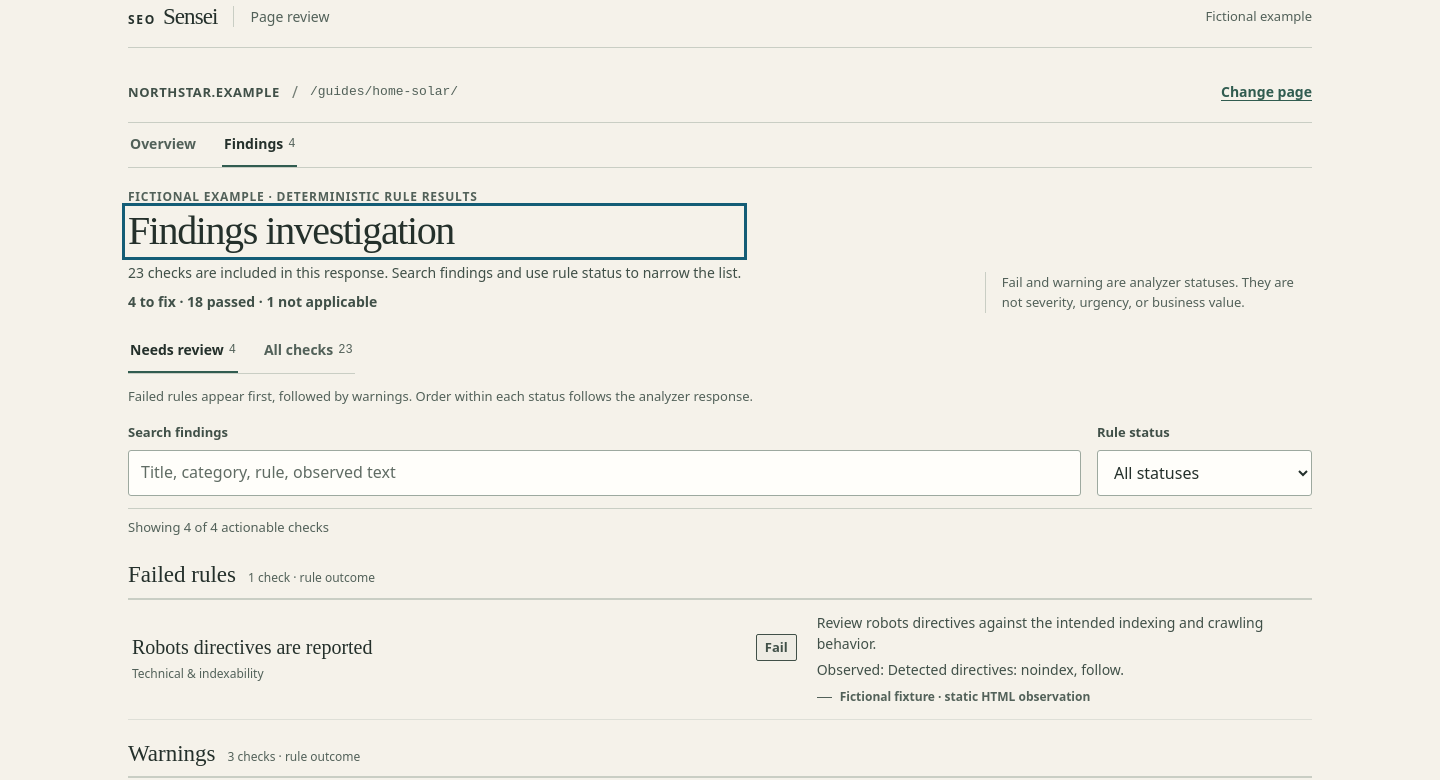
Test: Evidence Ledger authenticated application › orders review results and keeps all 23 fixture checks in their response order
The width and height of the screenshot is (1440, 780).
Expected: the heading "Findings investigation" is shown, [128,208,454,253]
Expected: the message reads "Showing 4 of 4 actionable checks", [128,508,1312,545]
Click the link "All checks 23" at (308, 349), box [264,340,353,359]
(page scrolled)
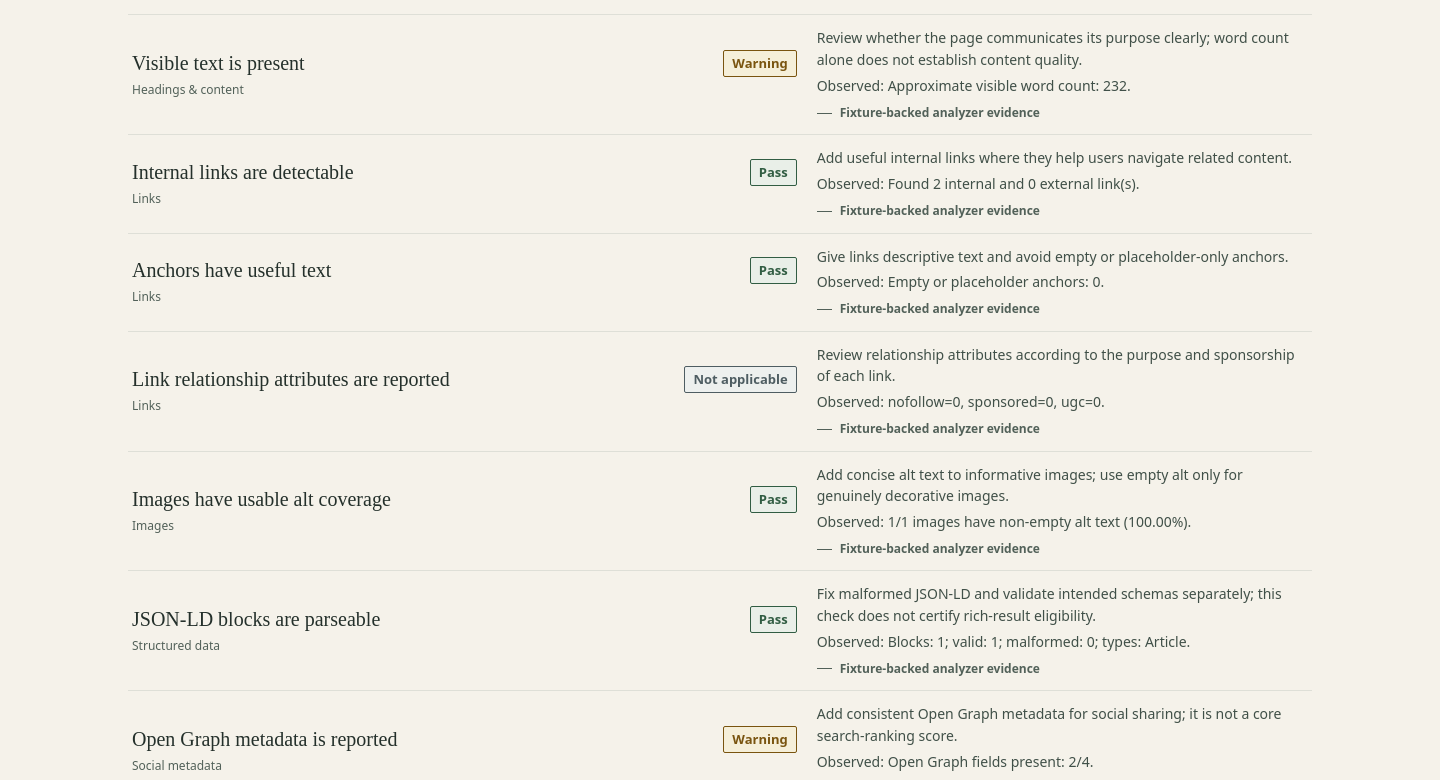
Expected: the link named "Rule status: Not applicable" is shown, [128,332,1312,451]
